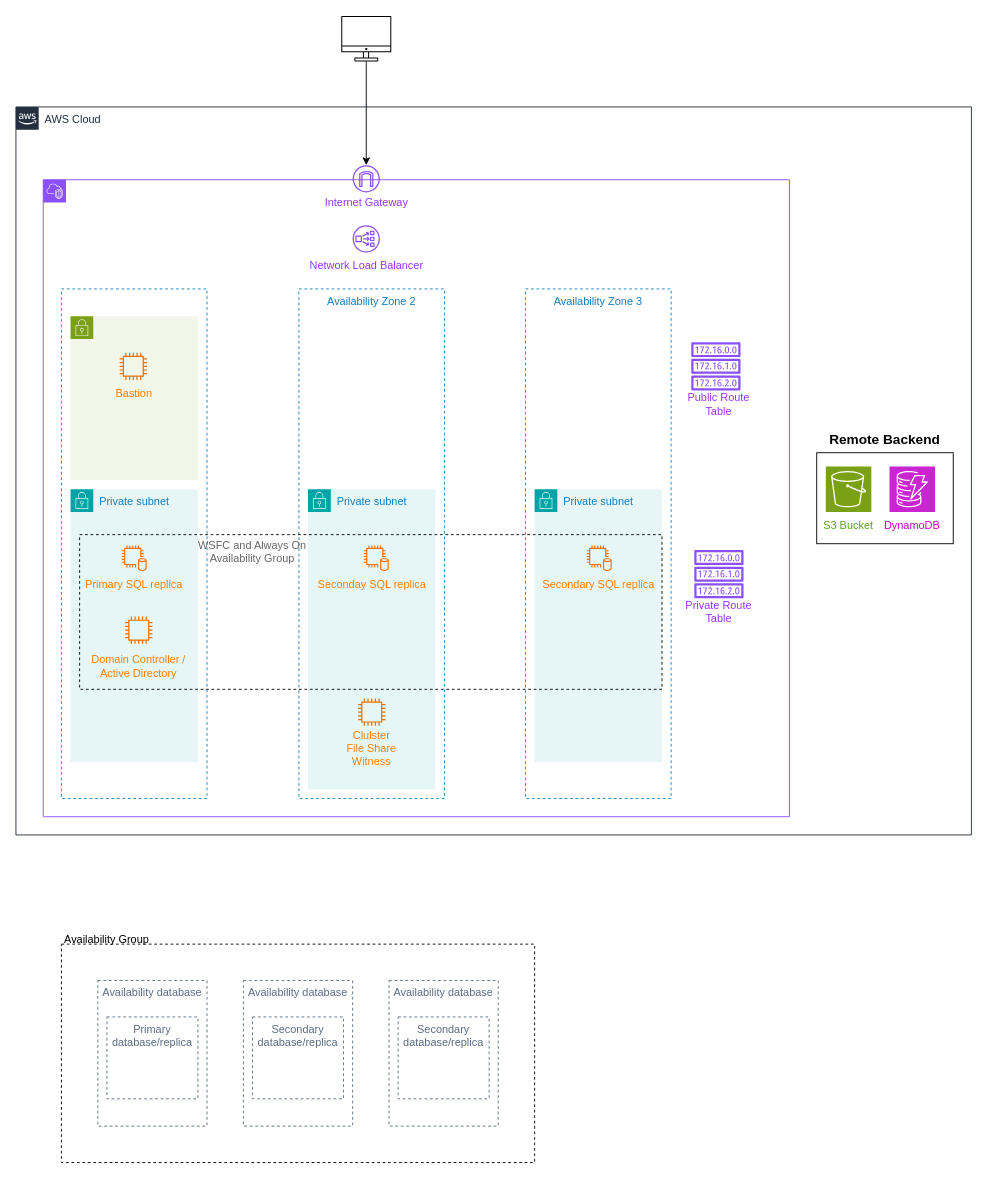
The diagram is 987 pixels wide and 1178 high, and some of its shapes have lost their labels. The shapes that lost their labels are listed below. From the top down, each one's box as (x1, y1, x2, y2) in pixels, then its label:
(341, 15, 391, 61): Remote Management
(70, 315, 198, 480): Public subnet
(42, 179, 789, 817): VPC
(61, 288, 207, 799): Availability Zone 1
